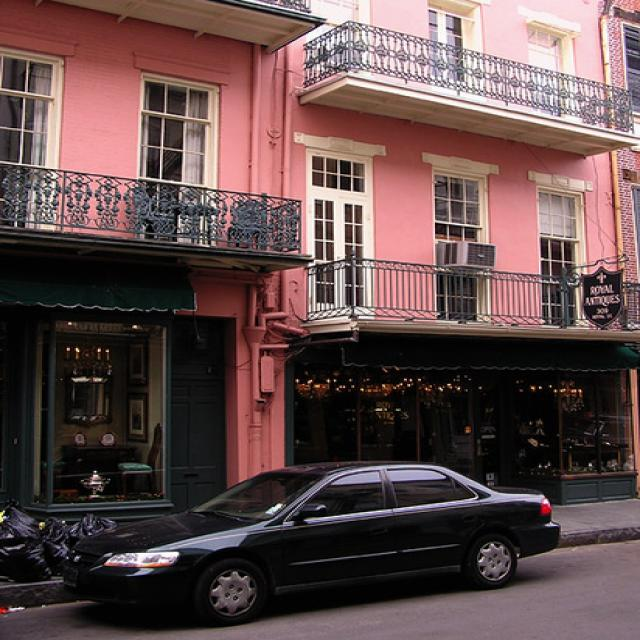car: (66, 458, 571, 626)
